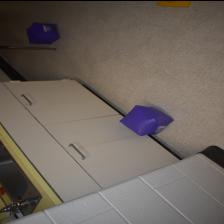cone: (156, 1, 190, 6)
cube: (118, 104, 174, 136), (24, 21, 60, 44)
